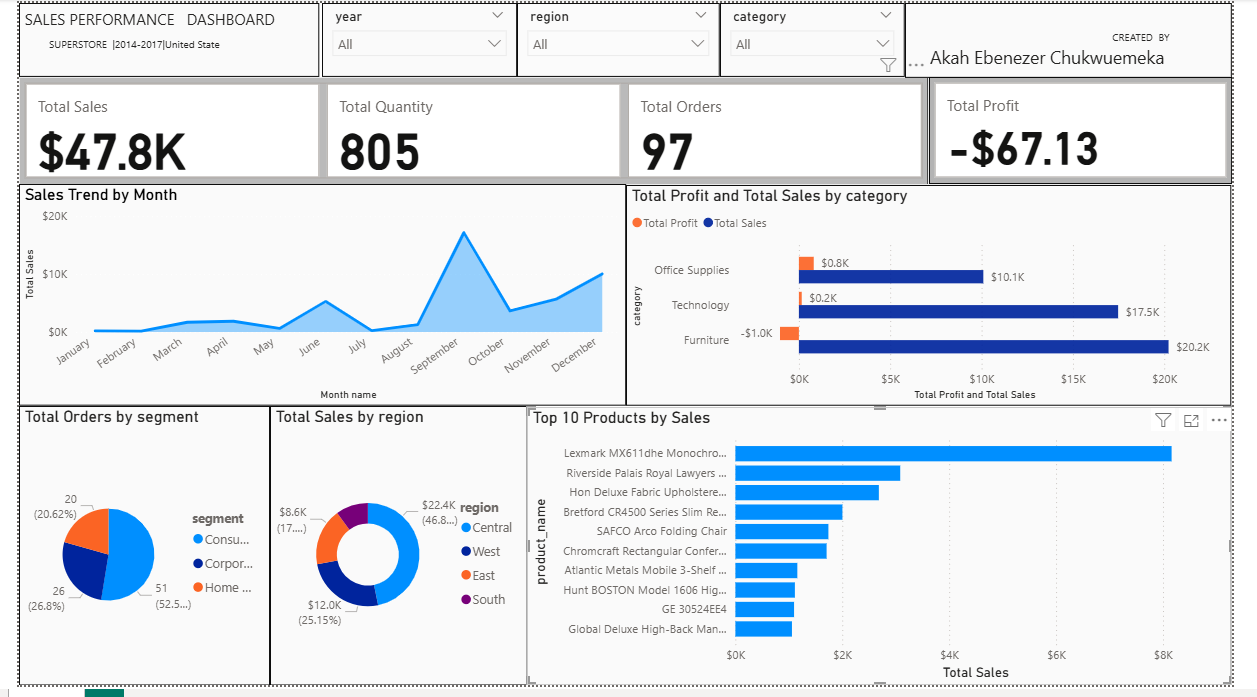

This screenshot's page, from the dashboard's own definition file:
{"tool":"powerbi","page":{"name":"Page 1","canvas":[1280,720],"ordinal":0},"visuals":[{"type":"cardVisual","fields":{"Data":["SUPERSTORE_CLEAN.Total Sales","SUPERSTORE_CLEAN.Total Quantity","SUPERSTORE_CLEAN.Total Orders"]},"box":[0,78.6,960.4,113.9],"z":0},{"type":"lineChart","title":"Sales Trend by Month","fields":{"Y":["SUPERSTORE_CLEAN.Total Sales"],"Category":["SUPERSTORE_CLEAN.Month Name"]},"box":[0,191.3,641.1,234.2],"z":1000},{"type":"clusteredBarChart","fields":{"Category":["SUPERSTORE_CLEAN.category"],"Y":["SUPERSTORE_CLEAN.Total Profit","SUPERSTORE_CLEAN.Total Sales"]},"box":[641.1,192.4,638.9,233.1],"z":2000},{"type":"donutChart","fields":{"Y":["SUPERSTORE_CLEAN.Total Sales"],"Category":["SUPERSTORE_CLEAN.region"]},"box":[265,425.6,271.6,294.7],"z":3000},{"type":"clusteredBarChart","title":"Top 10 Products by Sales","fields":{"Category":["SUPERSTORE_CLEAN.product_name"],"Y":["SUPERSTORE_CLEAN.Total Sales"]},"box":[536.6,426.1,743.9,293.9],"z":4000},{"type":"pieChart","fields":{"Category":["SUPERSTORE_CLEAN.segment"],"Y":["SUPERSTORE_CLEAN.Total Orders"]},"box":[0,425.6,265,294.7],"z":5000},{"type":"textbox","box":[935.3,0,344.7,78.6],"z":6000},{"type":"slicer","fields":{"Values":["SUPERSTORE_CLEAN.year"]},"box":[320.3,0,205.6,78.2],"z":7000},{"type":"slicer","fields":{"Values":["SUPERSTORE_CLEAN.region"]},"box":[525.9,0,214.4,78.2],"z":8000},{"type":"slicer","fields":{"Values":["SUPERSTORE_CLEAN.category"]},"box":[740.3,0,195.5,78.2],"z":9000},{"type":"textbox","box":[0,0,316.5,78.2],"z":10000},{"type":"cardVisual","fields":{"Data":["SUPERSTORE_CLEAN.Total Profit"]},"box":[960.4,78.6,320.1,112.8],"z":11000}]}

Visuals, with their boxes in screenshot pixels (x1, y1, x2, y2), scaled from the page's 1280x720 canvas onto the 1257x697 screenshot:
cardVisual - SUPERSTORE_CLEAN.Total Sales x SUPERSTORE_CLEAN.Total Quantity: <box>0,76,943,186</box>
"Sales Trend by Month" lineChart: <box>0,185,630,412</box>
clusteredBarChart - SUPERSTORE_CLEAN.category x SUPERSTORE_CLEAN.Total Profit: <box>630,186,1256,412</box>
donutChart - SUPERSTORE_CLEAN.Total Sales x SUPERSTORE_CLEAN.region: <box>260,412,527,696</box>
"Top 10 Products by Sales" clusteredBarChart: <box>527,412,1256,696</box>
pieChart - SUPERSTORE_CLEAN.segment x SUPERSTORE_CLEAN.Total Orders: <box>0,412,260,696</box>
textbox: <box>918,0,1256,76</box>
slicer - SUPERSTORE_CLEAN.year: <box>315,0,516,76</box>
slicer - SUPERSTORE_CLEAN.region: <box>516,0,727,76</box>
slicer - SUPERSTORE_CLEAN.category: <box>727,0,919,76</box>
textbox: <box>0,0,311,76</box>
cardVisual - SUPERSTORE_CLEAN.Total Profit: <box>943,76,1256,185</box>
